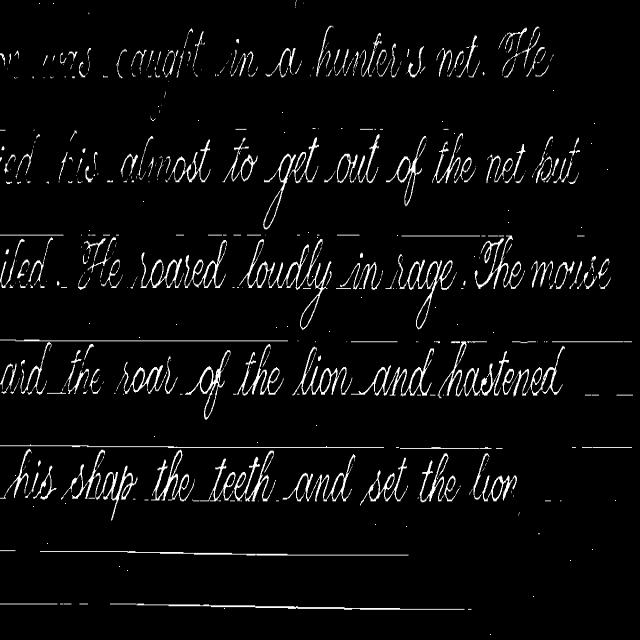noise: (0, 133, 99, 185), (100, 601, 471, 612), (38, 548, 409, 557), (0, 48, 92, 79), (0, 444, 387, 451), (0, 338, 288, 344), (511, 340, 632, 348), (434, 340, 522, 348), (395, 445, 493, 452), (0, 602, 96, 608), (400, 235, 512, 240), (584, 390, 634, 398), (0, 233, 64, 238), (569, 444, 632, 448), (350, 340, 397, 344), (46, 389, 66, 394), (0, 548, 16, 554), (336, 233, 360, 236), (576, 231, 586, 238), (208, 233, 227, 236), (360, 128, 376, 131), (246, 233, 260, 236), (236, 128, 247, 131), (234, 232, 242, 236), (86, 233, 94, 236), (442, 128, 448, 131), (176, 234, 184, 236), (104, 75, 109, 78), (106, 180, 112, 182), (380, 128, 383, 131), (312, 127, 316, 128), (340, 127, 343, 128)
not-noise: (0, 449, 518, 516), (294, 341, 564, 398), (264, 27, 480, 78), (263, 129, 384, 199), (238, 238, 332, 328), (340, 253, 456, 313), (384, 133, 476, 205), (116, 29, 204, 96), (484, 136, 580, 184), (136, 240, 226, 288), (120, 136, 211, 183), (460, 236, 526, 290), (186, 350, 231, 419), (233, 343, 284, 396), (498, 27, 552, 77), (529, 256, 608, 289), (0, 236, 52, 286), (116, 357, 176, 394), (78, 236, 120, 288), (60, 343, 98, 394), (221, 137, 258, 182), (263, 170, 289, 228), (0, 360, 42, 394), (221, 39, 259, 76), (484, 71, 484, 76)
